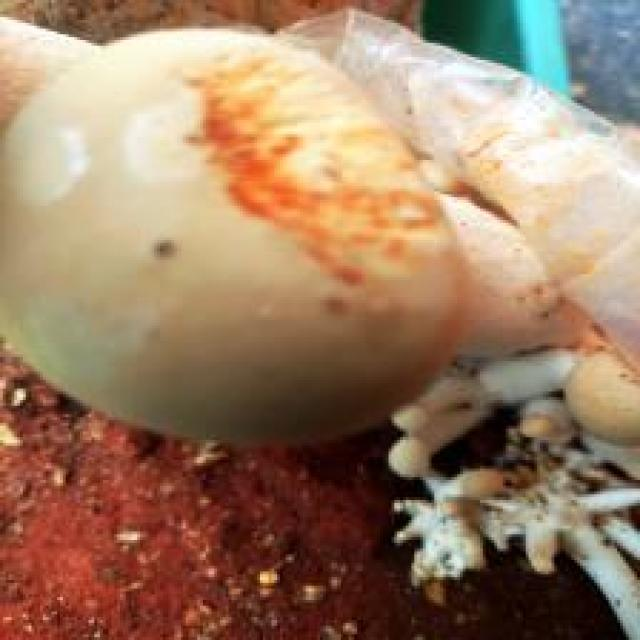death-cap: (0, 23, 471, 446)
